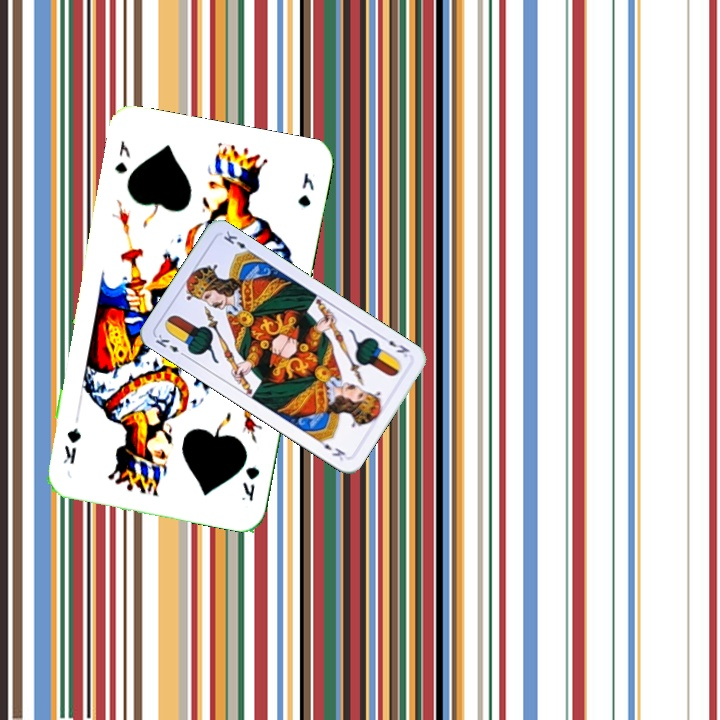EK: (151, 330, 189, 360), (377, 332, 412, 360)
GK: (237, 462, 262, 503), (110, 136, 133, 177)
